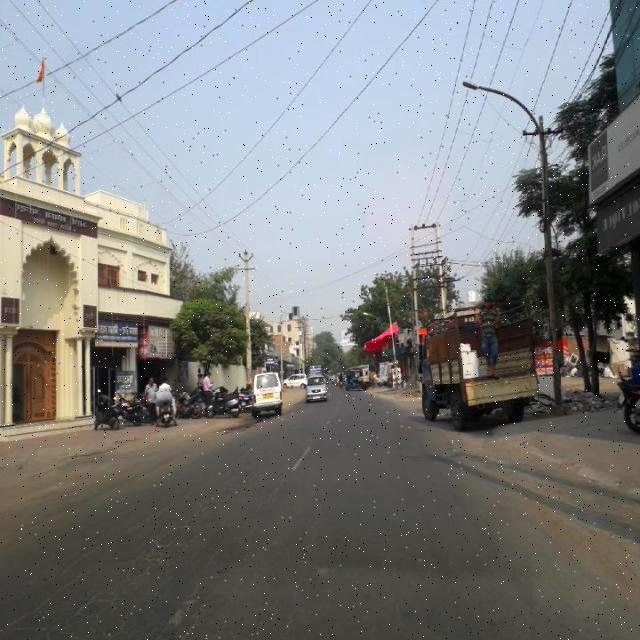D20: (6, 488, 238, 635)
